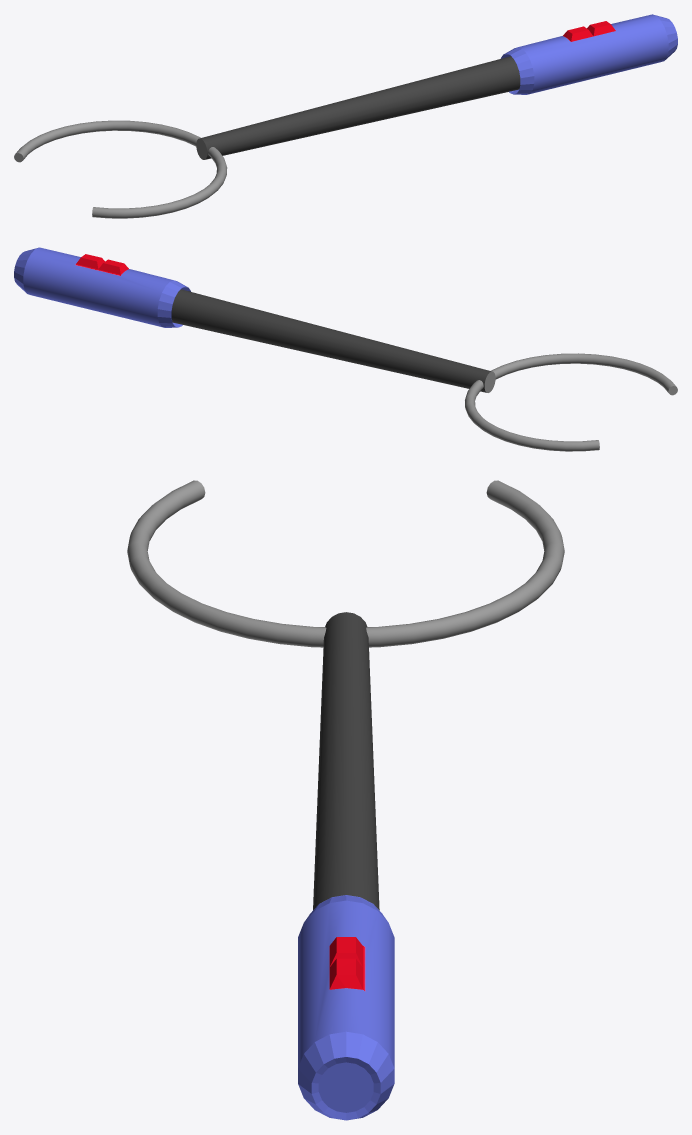
File: Gripper (1).FBX
The picture shows the model from 3 angles, top to bottom: view 1: azimuth 30°, elevation 25°; view 2: azimuth 150°, elevation 25°; view 3: azimuth 270°, elevation 25°; orthographic projection. The views are drawn at different scales.
Parts seen in each view (by area): view 1: Object001; view 2: Object001; view 3: Object001.
Boxes of the visible parts, x1,y1,x2,y2 form: Object001: [14, 14, 677, 218]; Object001: [14, 247, 677, 451]; Object001: [127, 480, 564, 1120].
Size of the model in its own units: 102 by 7.83 by 31.26.
